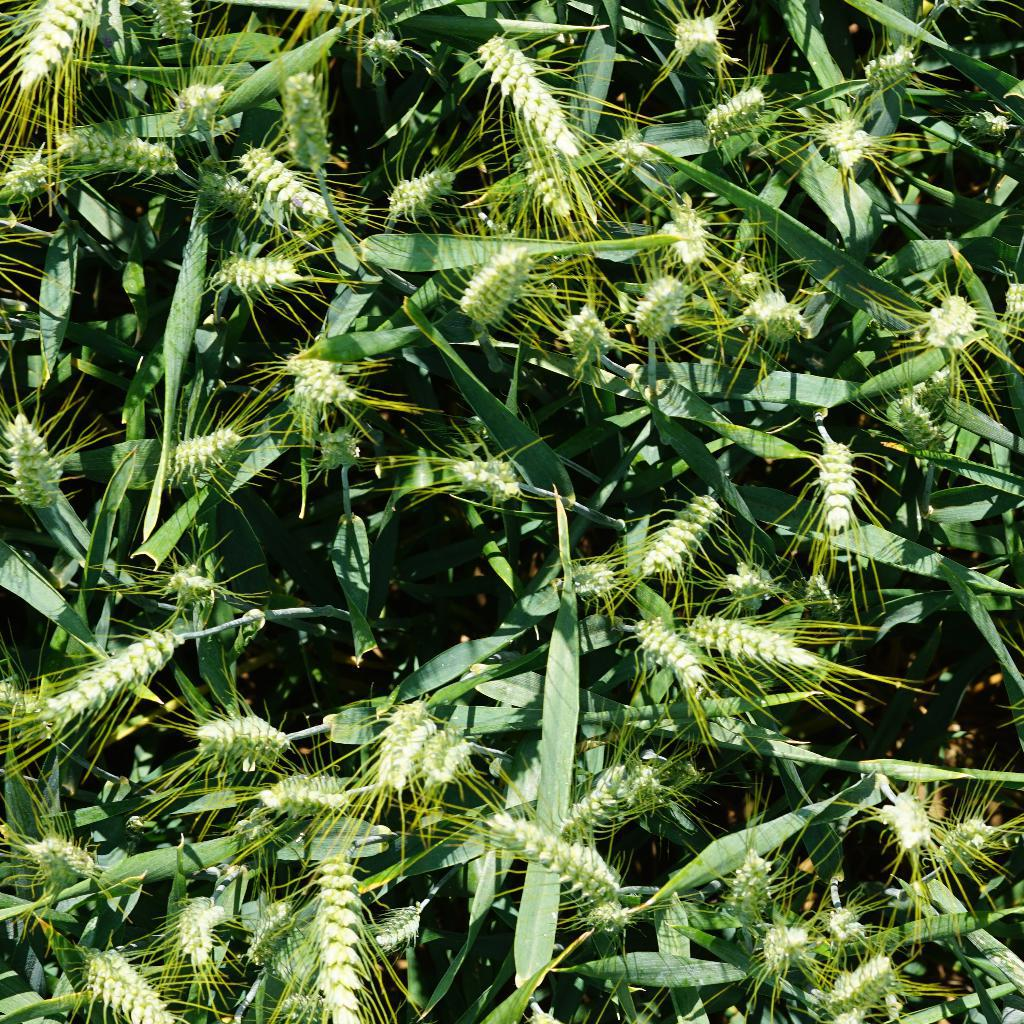0-0: (468, 22, 590, 164), (470, 808, 631, 903), (21, 623, 187, 713), (673, 606, 830, 680), (311, 841, 373, 1024), (620, 468, 720, 580), (43, 116, 189, 191), (256, 63, 340, 178), (556, 755, 665, 841), (0, 411, 78, 526), (77, 944, 187, 1024), (15, 0, 104, 96), (623, 613, 714, 706), (235, 142, 336, 225), (798, 425, 870, 537), (428, 448, 535, 519), (460, 231, 535, 328), (152, 425, 254, 496), (269, 346, 376, 413), (197, 239, 303, 305), (497, 145, 589, 217), (694, 82, 780, 157), (365, 152, 464, 217), (258, 757, 352, 825), (365, 687, 426, 791), (189, 707, 303, 761), (235, 889, 306, 972), (785, 561, 874, 626), (17, 821, 98, 892), (620, 268, 690, 347), (348, 892, 428, 961), (175, 884, 236, 974), (716, 838, 776, 929), (869, 784, 941, 858), (813, 114, 885, 186), (732, 283, 810, 348), (907, 279, 974, 354), (814, 952, 901, 1009), (942, 89, 1024, 149), (351, 10, 414, 88), (0, 681, 67, 747), (410, 718, 471, 789), (286, 428, 374, 477), (884, 392, 949, 455), (671, 6, 731, 73), (123, 0, 198, 53), (929, 815, 994, 876), (163, 79, 225, 142), (152, 561, 228, 612), (742, 905, 804, 967), (194, 164, 262, 220), (853, 40, 922, 95), (660, 200, 713, 271), (576, 896, 654, 944), (555, 309, 617, 369), (560, 548, 626, 604), (0, 149, 59, 208), (710, 253, 770, 311), (717, 553, 774, 606), (602, 126, 664, 174), (908, 370, 974, 411), (223, 800, 281, 846), (823, 899, 874, 948), (659, 752, 706, 795), (121, 811, 149, 864)
